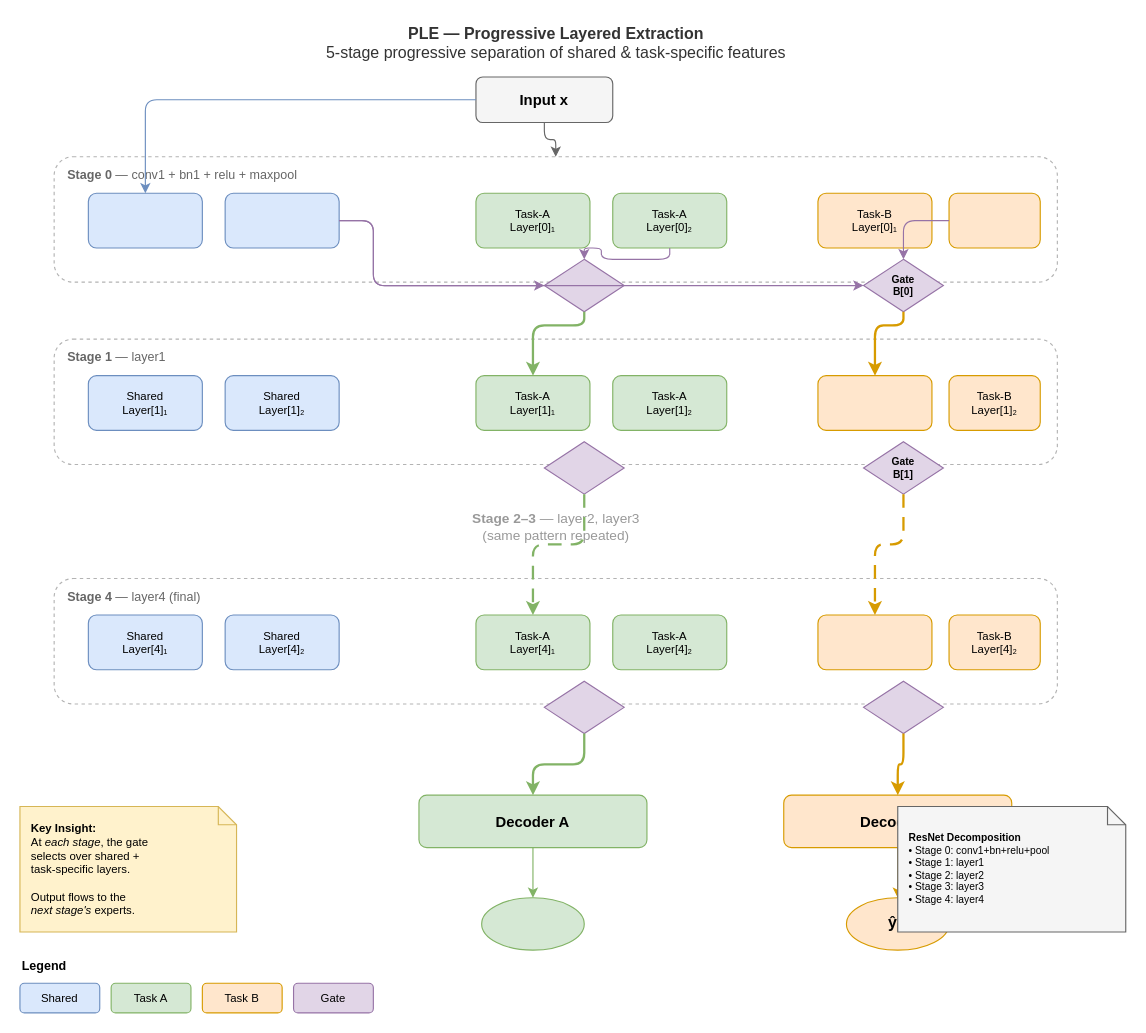
The diagram is 1146 pixels wide and 1033 high, and some of its shapes have lost their labels. Each missing label, with the centre of its shape:
Gate A[0]: point (583, 285)
Gate A[1]: point (583, 467)
Gate A[4]: point (583, 707)
Gate B[4]: point (902, 707)
Shared Layer[0]₁: point (144, 220)
Shared Layer[0]₂: point (281, 220)
Task-B Layer[0]₂: point (994, 220)
Task-B Layer[1]₁: point (874, 402)
Task-B Layer[4]₁: point (874, 642)
ŷ A: point (532, 923)
